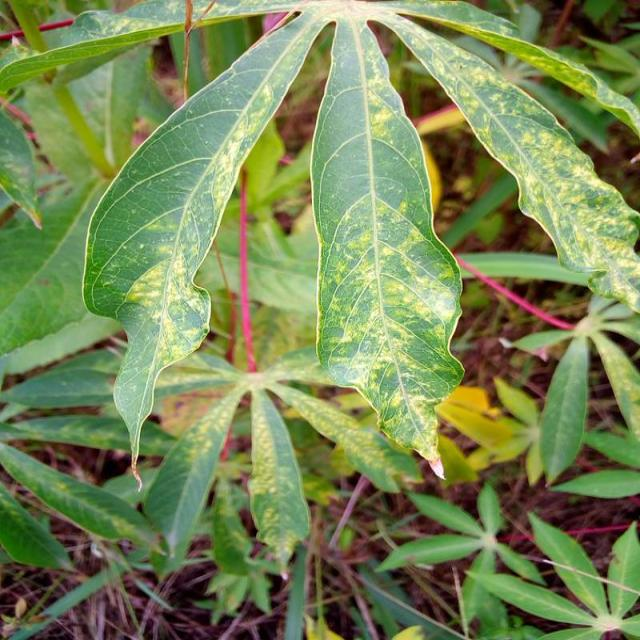cassava leaf: (78, 1, 637, 492), (308, 13, 466, 480)
